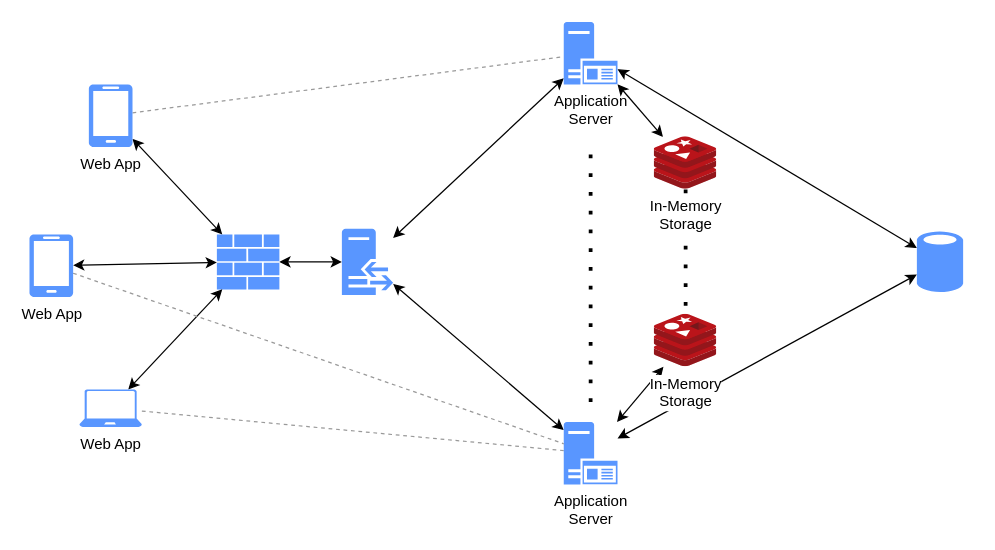
The diagram is 995 pixels wide and 550 high, and some of its shapes have lost their labels. The centre of each missing label's shape, as x and y in pixels:
"Firewall" belongs at (x=247, y=261).
"Relational Database" belongs at (x=939, y=261).
"Reverse Proxy" belongs at (x=366, y=261).
